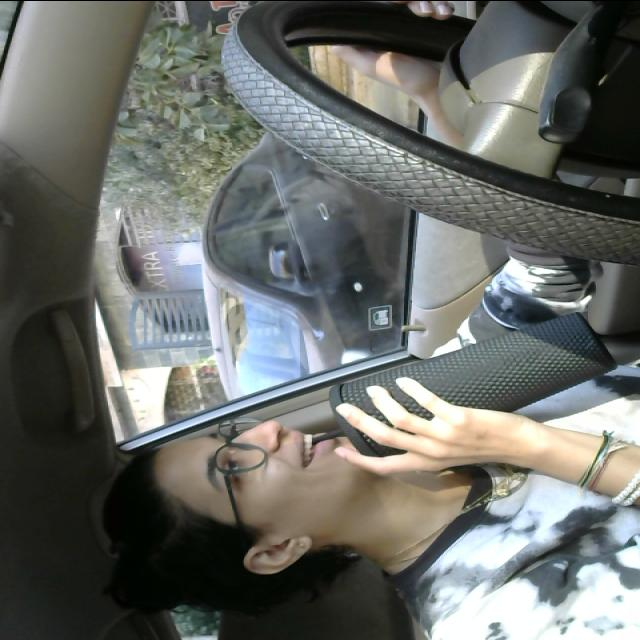drinking: (292, 299, 604, 463)
